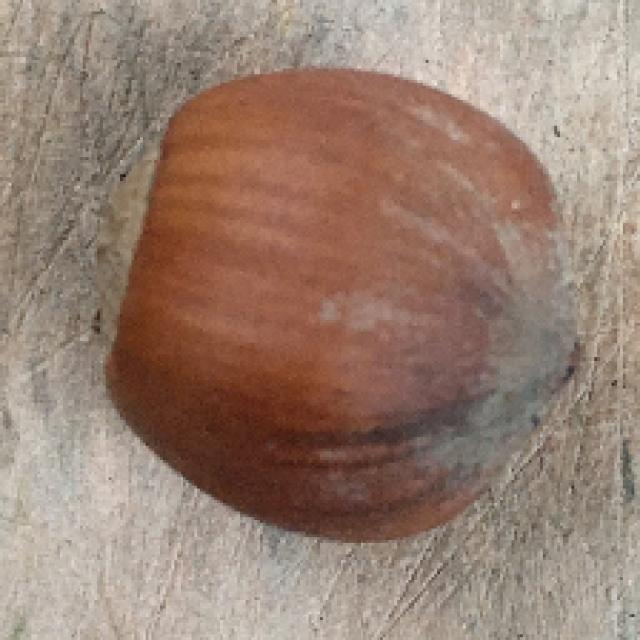qualityHazelnut: (82, 53, 582, 556)
